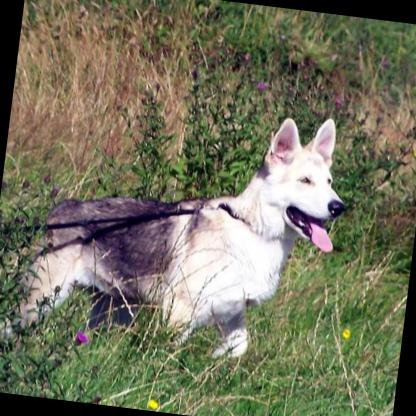Eskimo_dog: (0, 74, 356, 387)
